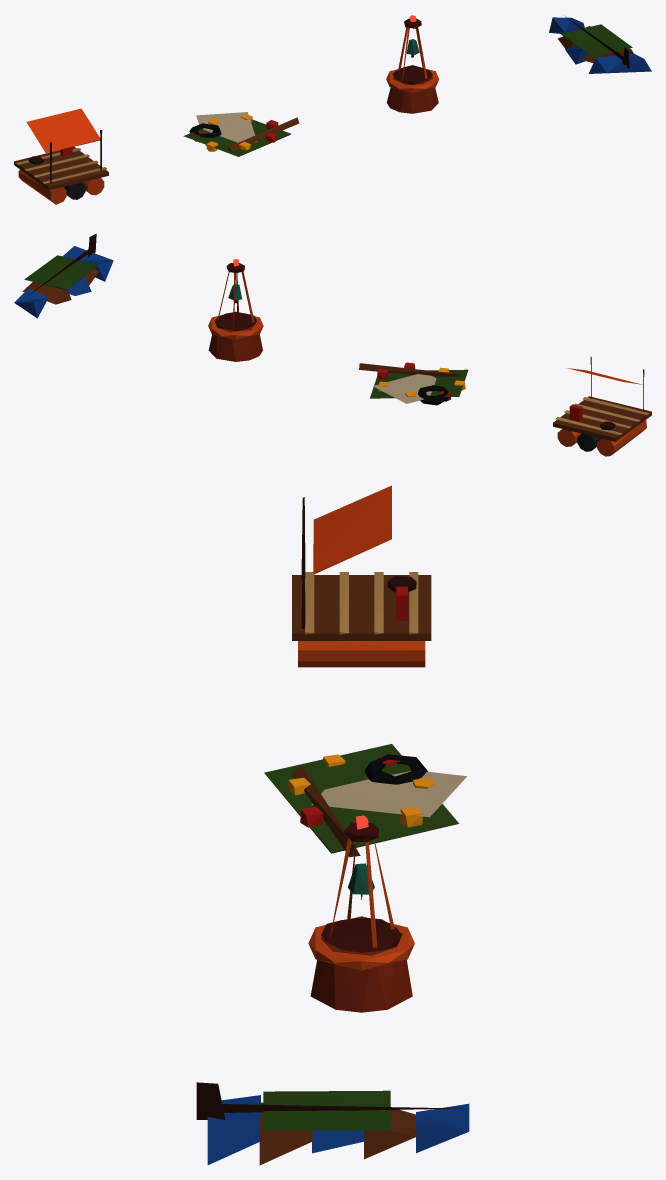
Rendered from tb_flotsam_kit.three-web-toon.lod50.glb.
3 renders of one model, top to bottom at view 1: azimuth 30°, elevation 25°; view 2: azimuth 150°, elevation 25°; view 3: azimuth 270°, elevation 25°, orthographic. The views are drawn at different scales.
Parts seen in each view (by area): view 1: barrel_raft_lod, hull_shard_lod, net_tangle_lod, bell_buoy_lod; view 2: barrel_raft_lod, hull_shard_lod, net_tangle_lod, bell_buoy_lod; view 3: barrel_raft_lod, hull_shard_lod, net_tangle_lod, bell_buoy_lod.
Part boxes in pixels (x1,y1,x2,y2): barrel_raft_lod: (14, 108, 108, 204); hull_shard_lod: (549, 16, 651, 73); net_tangle_lod: (183, 112, 299, 156); bell_buoy_lod: (386, 15, 439, 113); barrel_raft_lod: (553, 356, 651, 456); hull_shard_lod: (14, 233, 113, 318); net_tangle_lod: (359, 362, 468, 405); bell_buoy_lod: (208, 259, 263, 361); barrel_raft_lod: (292, 485, 431, 667); hull_shard_lod: (196, 1082, 469, 1165); net_tangle_lod: (264, 744, 466, 857); bell_buoy_lod: (308, 815, 414, 1012).
Size of the model in its own units: 23.25 by 3.29 by 4.71.
